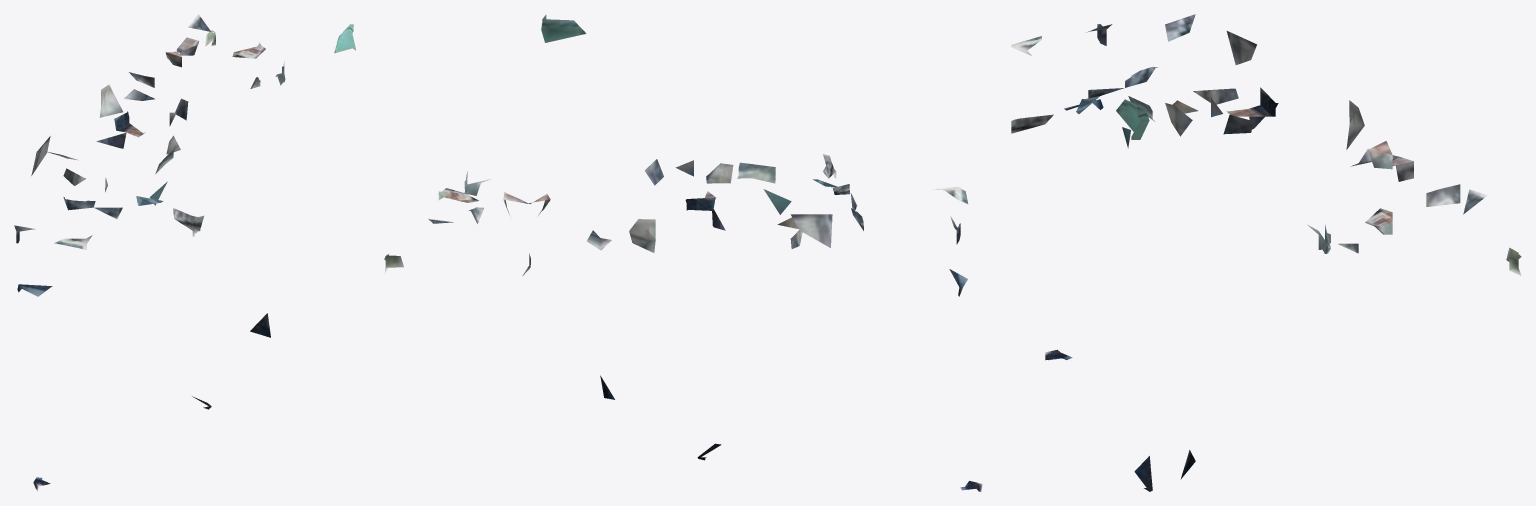
3 views of the same model, side by side, from view 1: azimuth 30°, elevation 25°; view 2: azimuth 150°, elevation 25°; view 3: azimuth 270°, elevation 25° (orthographic). The views are drawn at different scales.
Parts seen in each view (by area): view 1: 30436272704361625634_1; view 2: 30436272704361625634_1; view 3: 30436272704361625634_1.
Part boxes in pixels (<box>): 30436272704361625634_1: <box>14,14,355,491</box>; 30436272704361625634_1: <box>384,14,982,491</box>; 30436272704361625634_1: <box>1011,14,1521,491</box>.
Bounding box in the file's own units: 27.31 × 26.81 × 25.61.
Materials: 1 (1 with a texture image).
